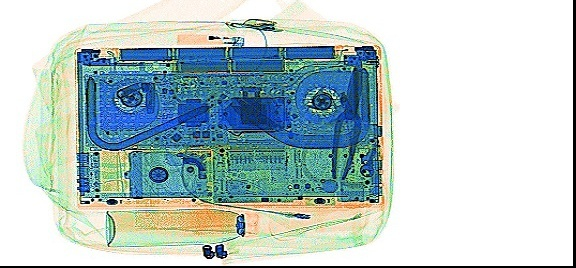lighter: (174, 32, 244, 48)
pressure: (100, 207, 259, 245)
scissors: (298, 57, 379, 187)
